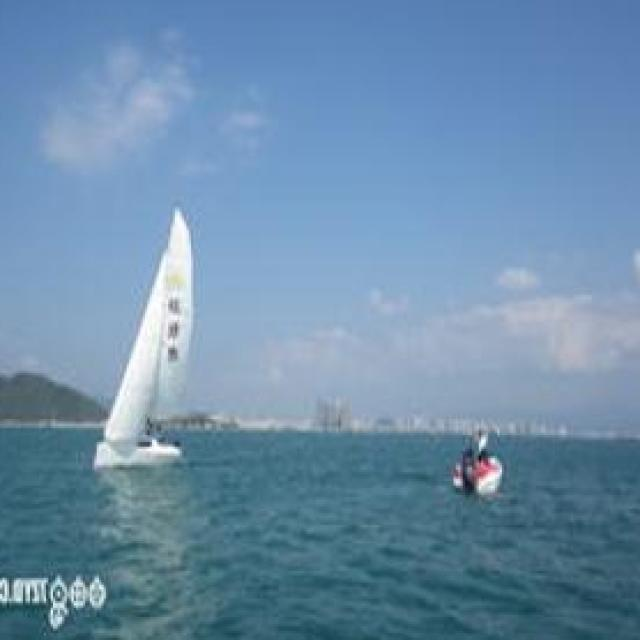sailboat: (48, 224, 236, 474), (447, 415, 533, 508)
